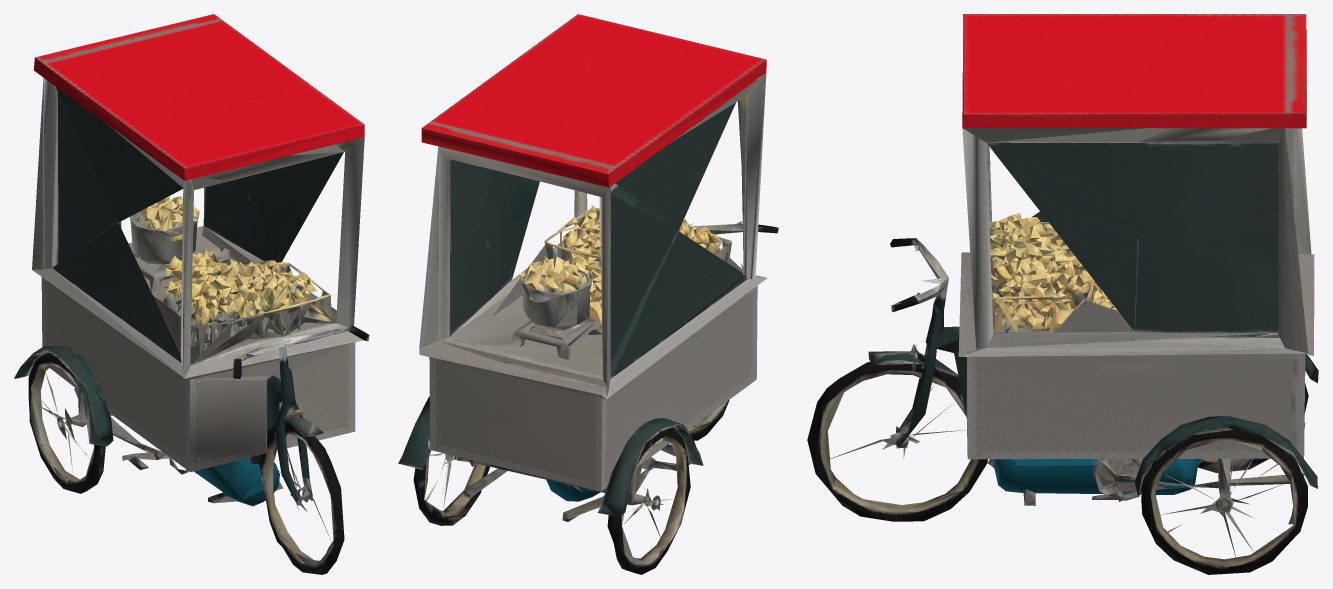
Rendered from carrinho-de-pipoca-br__01a1b60e.glb.
3 renders of one model, left to right at view 1: azimuth 30°, elevation 25°; view 2: azimuth 150°, elevation 25°; view 3: azimuth 270°, elevation 25°, orthographic. The views are drawn at different scales.
Visible parts, largest first — view 1: carrinho-de-pipoca-br__01a1b60e; view 2: carrinho-de-pipoca-br__01a1b60e; view 3: carrinho-de-pipoca-br__01a1b60e.
Part boxes in pixels (x1,y1,x2,y2): carrinho-de-pipoca-br__01a1b60e: [14, 14, 369, 574]; carrinho-de-pipoca-br__01a1b60e: [398, 14, 778, 574]; carrinho-de-pipoca-br__01a1b60e: [807, 14, 1318, 574].
Bounding box in the file's own units: 1.06 × 1.9 × 1.92.
1 material, 1 textured.
